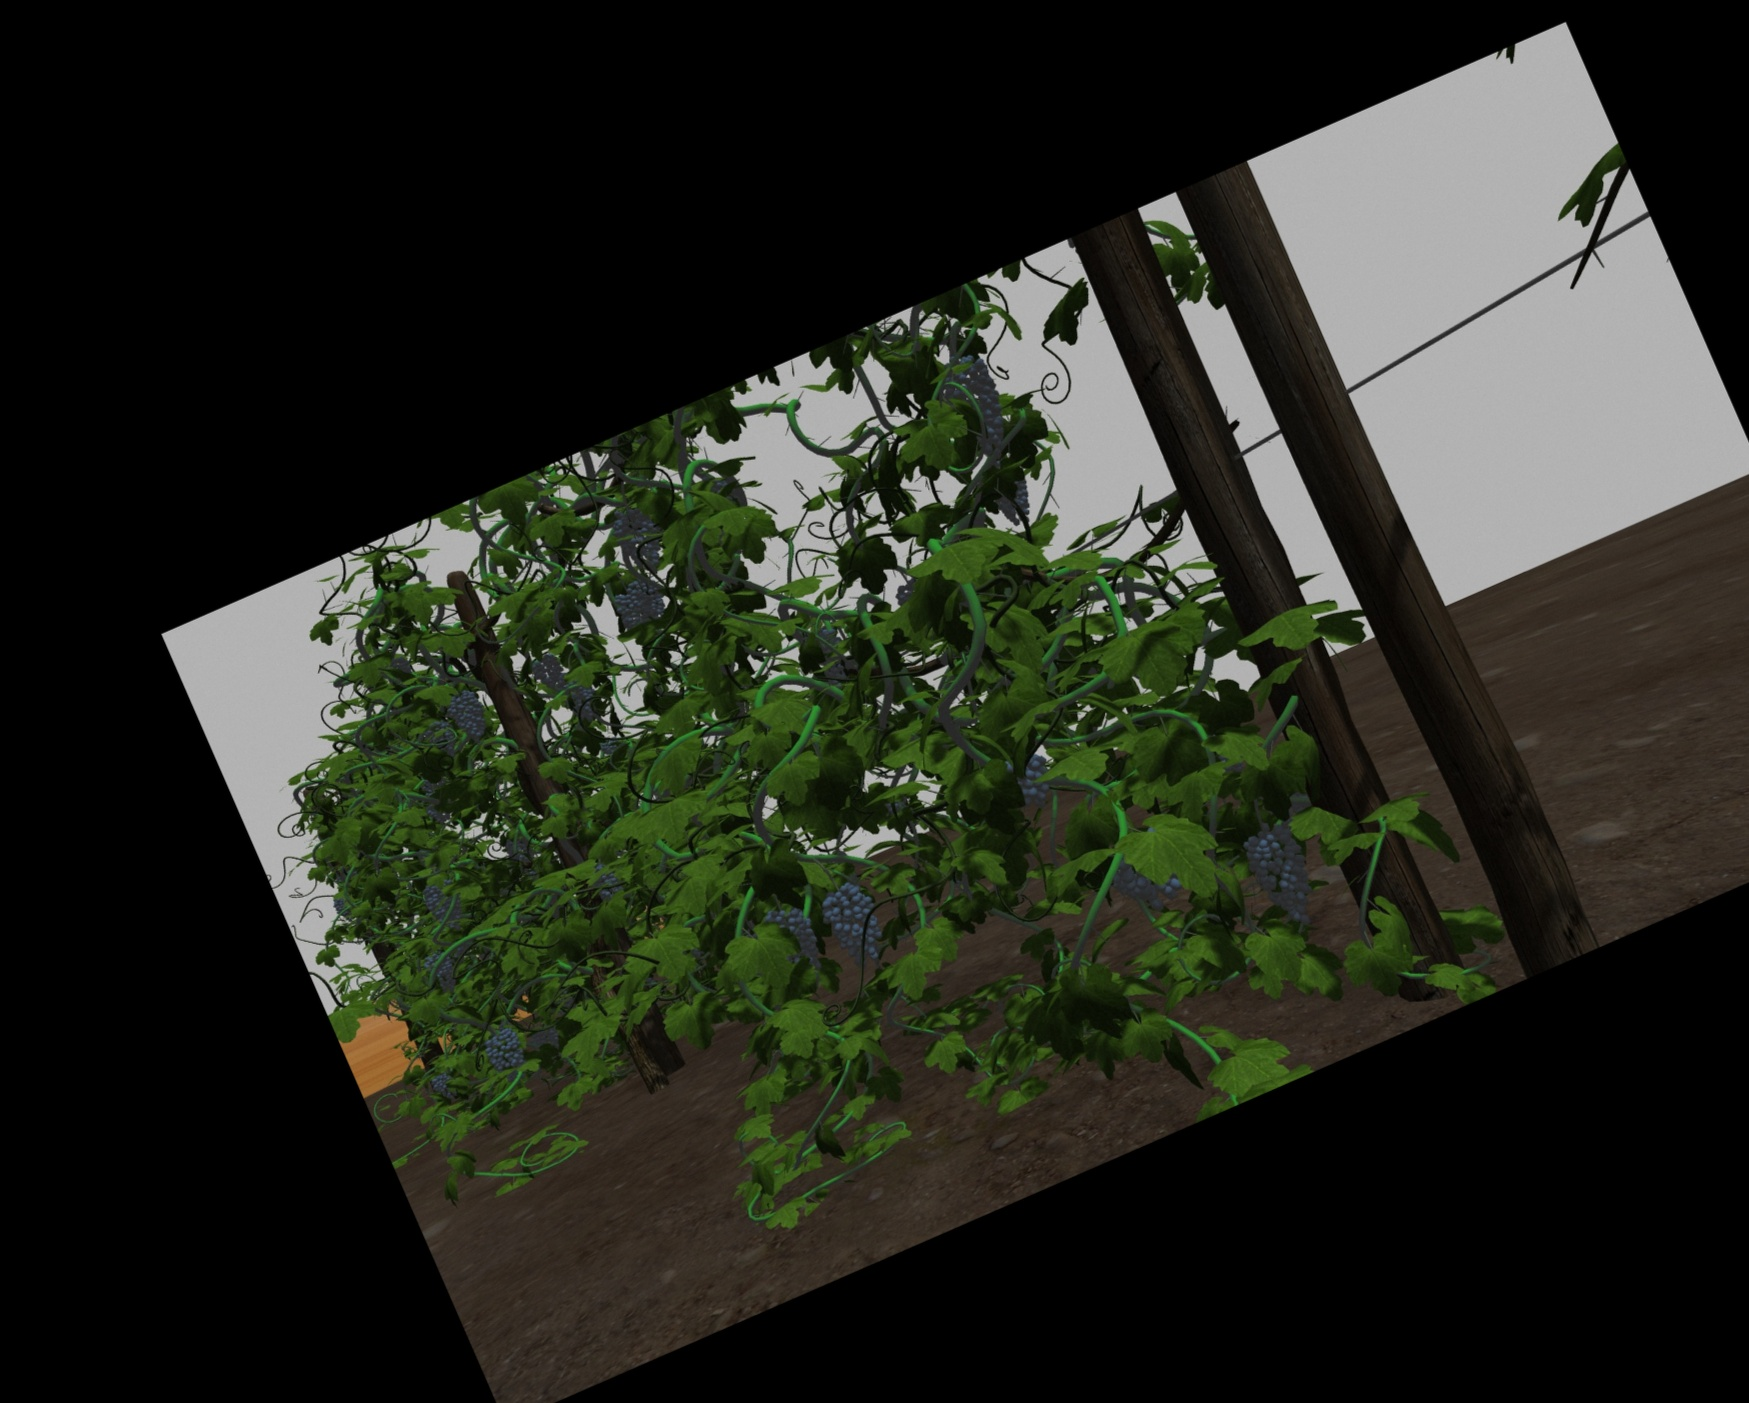grape: (1260, 826, 1315, 925), (955, 359, 999, 445), (829, 888, 877, 963), (1118, 855, 1178, 912), (779, 905, 816, 972), (620, 508, 658, 568), (1013, 754, 1053, 805), (451, 691, 487, 740), (428, 880, 462, 928), (487, 1028, 524, 1069), (637, 576, 663, 620), (535, 654, 565, 691), (429, 951, 454, 992), (618, 588, 643, 628), (573, 684, 595, 720), (530, 1024, 555, 1054), (434, 1072, 454, 1099)
